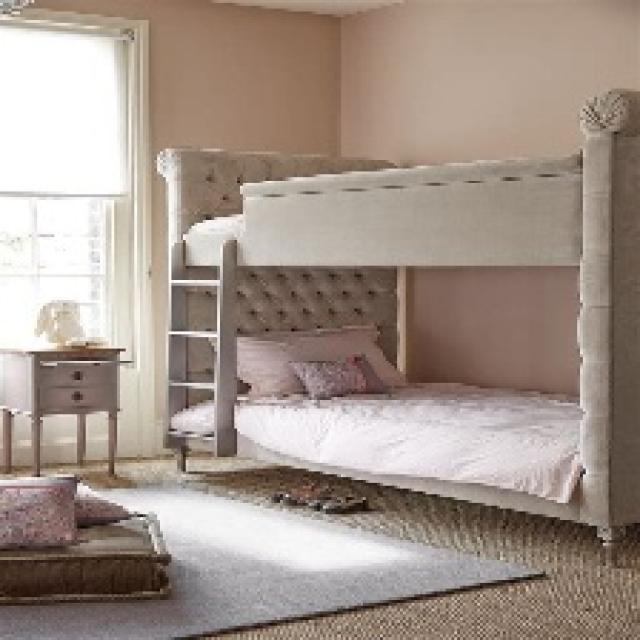Bed: (157, 86, 637, 563)
